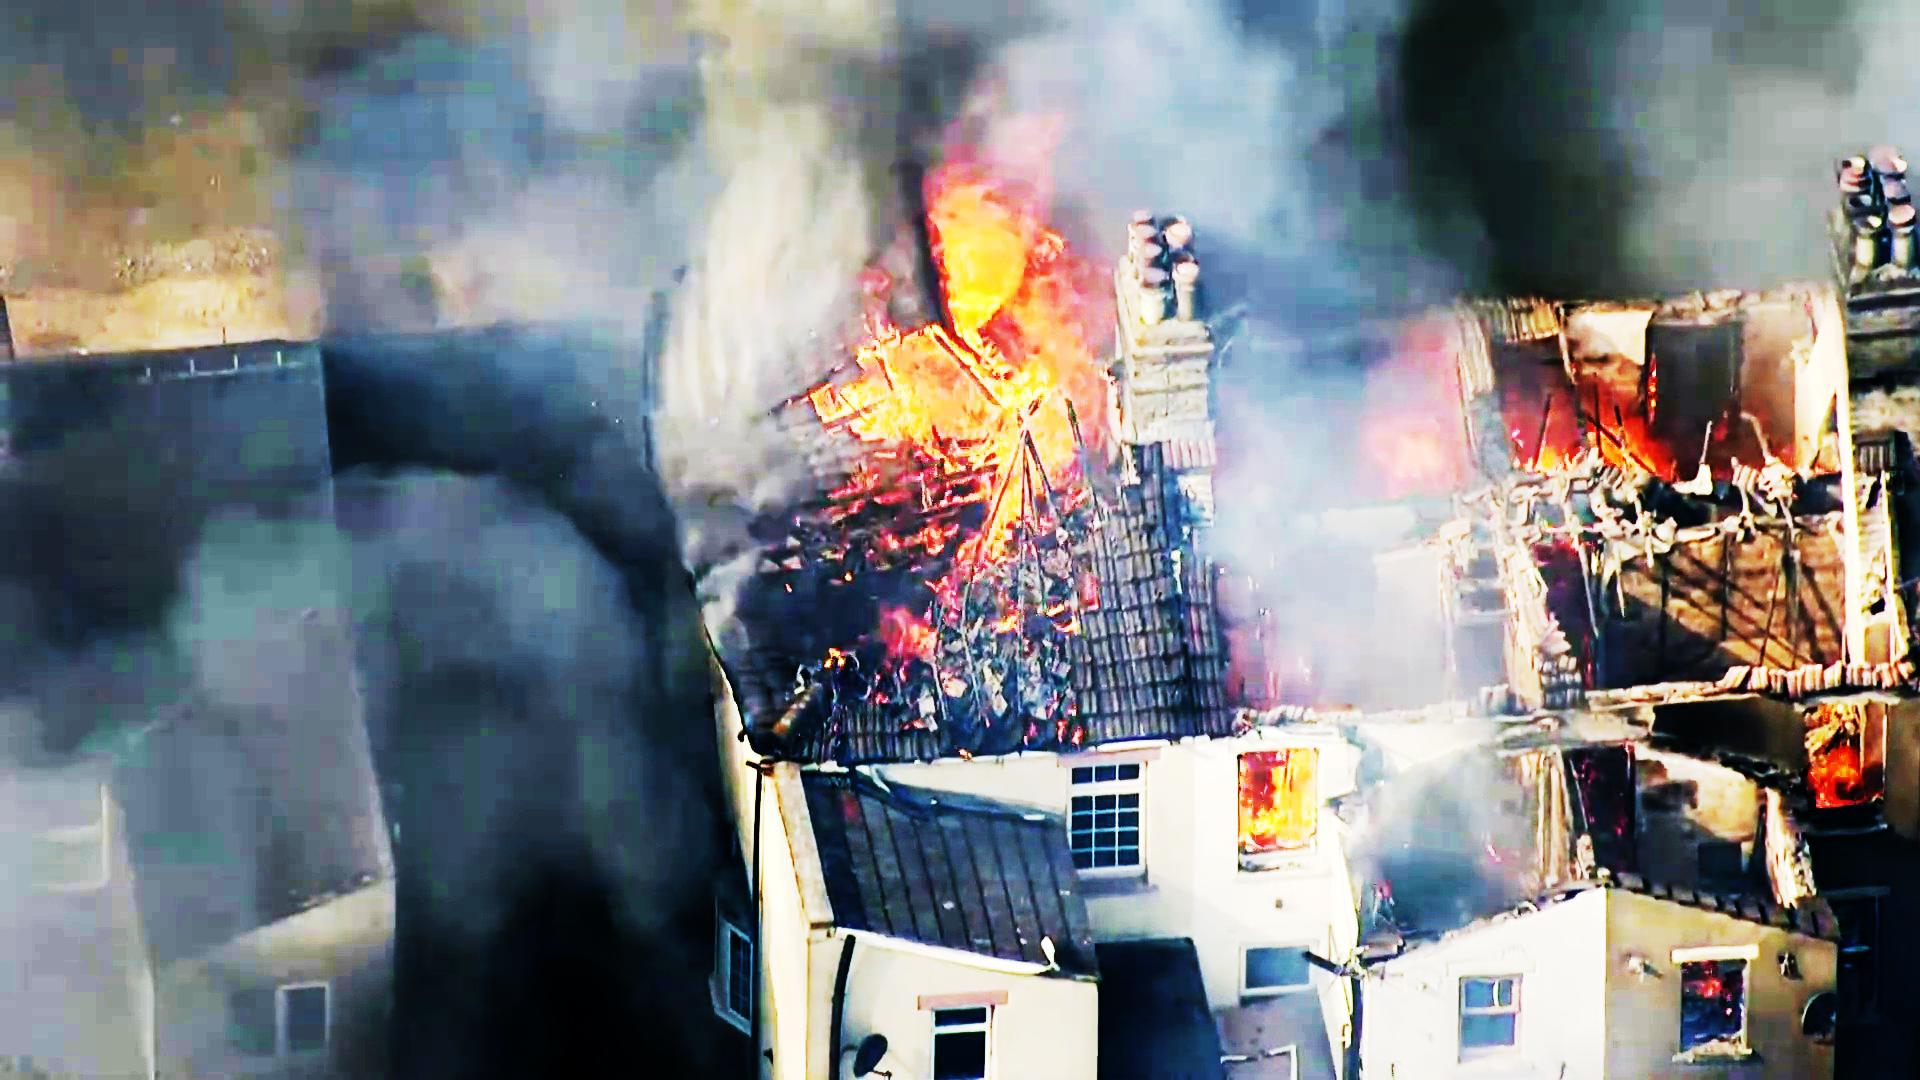fire: (828, 133, 1151, 505)
smoke: (1286, 0, 1891, 284)
